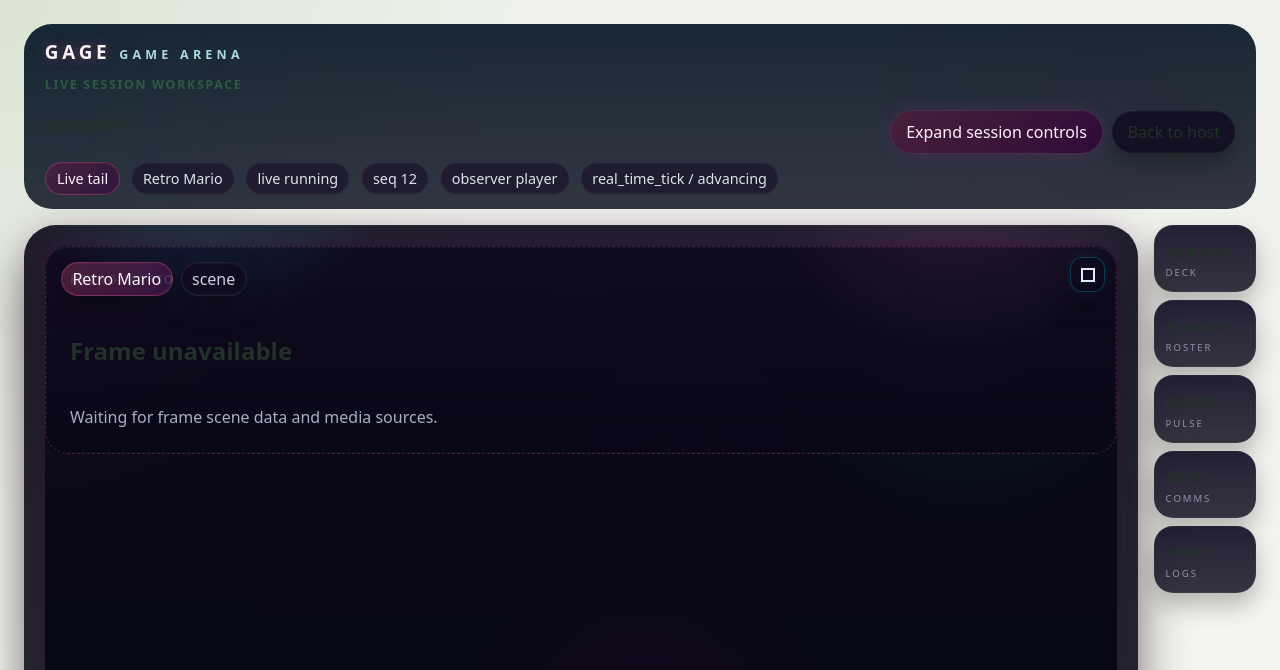
SessionPage › shows Stop during live play and routes it through the finish control command
The width and height of the screenshot is (1280, 670).
Click the button "Expand session controls": click(996, 132) [891,111,1102,153]
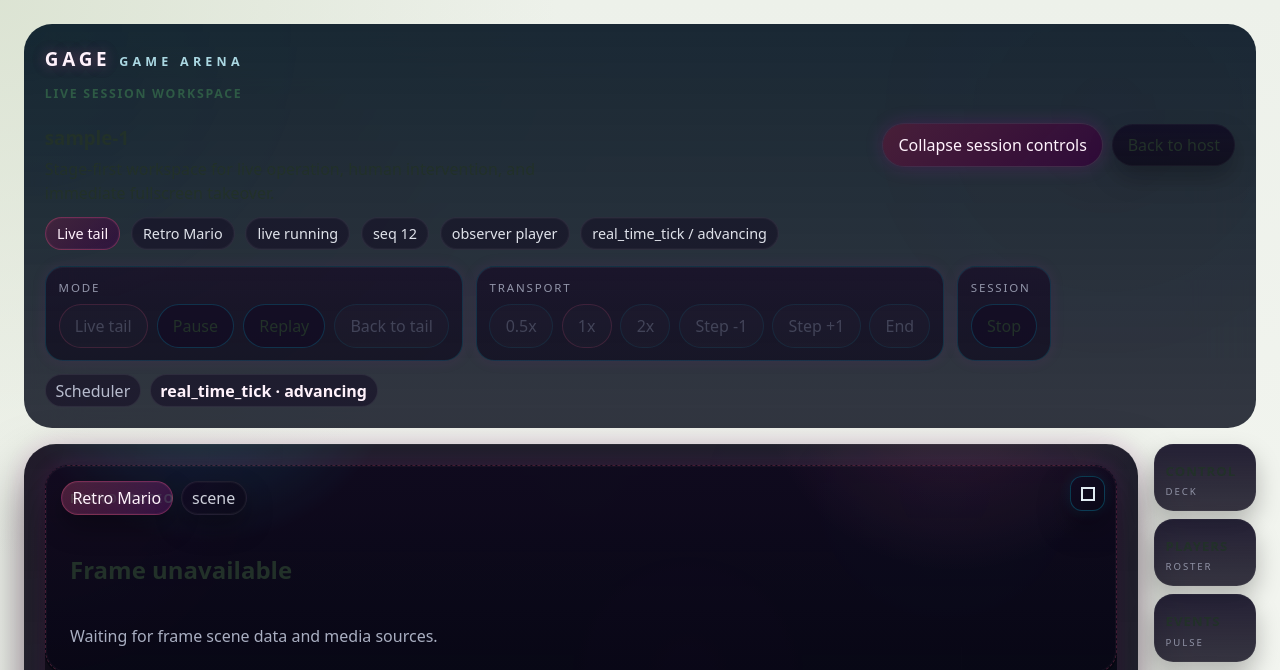
Check: the button "Stop" is shown
Click the button "Stop": click(1004, 326) [971,304,1037,348]
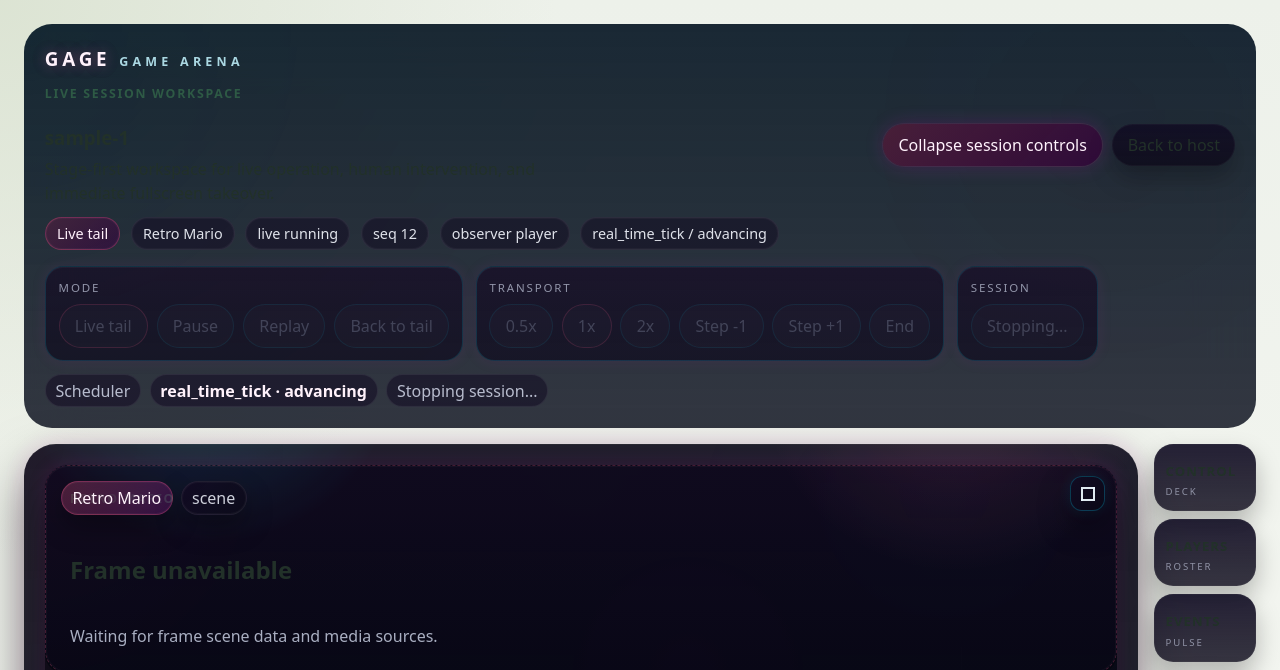
Check: the button "Stopping..." is disabled, box [971,304,1084,348]
Check: the text "Stopping session..." is shown, box [386,374,548,407]
